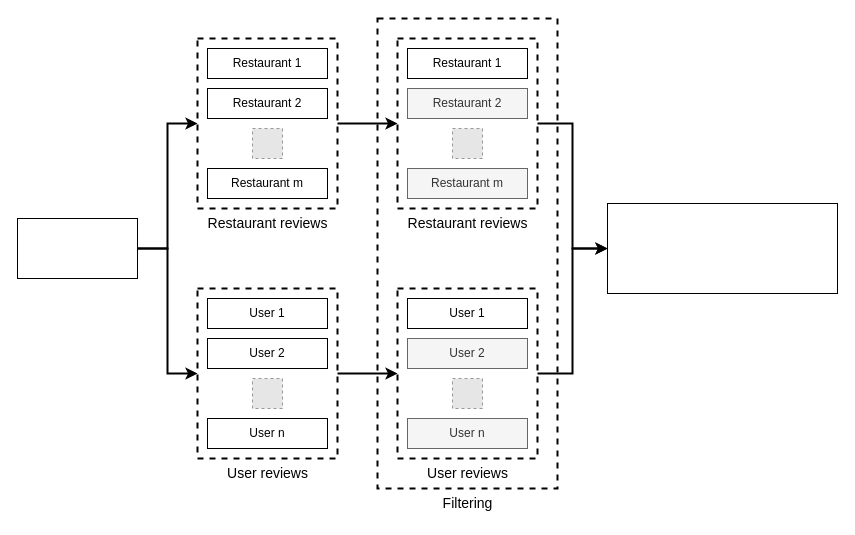
The diagram is 855 pixels wide and 535 high, and some of its shapes have lost their labels. Grey dashed boxes stand in for pictures. Each missing label, with the centre of its shape:
"Review" goes at (77,248).
"Tokenisation and Lemmatisation" goes at (722,248).
